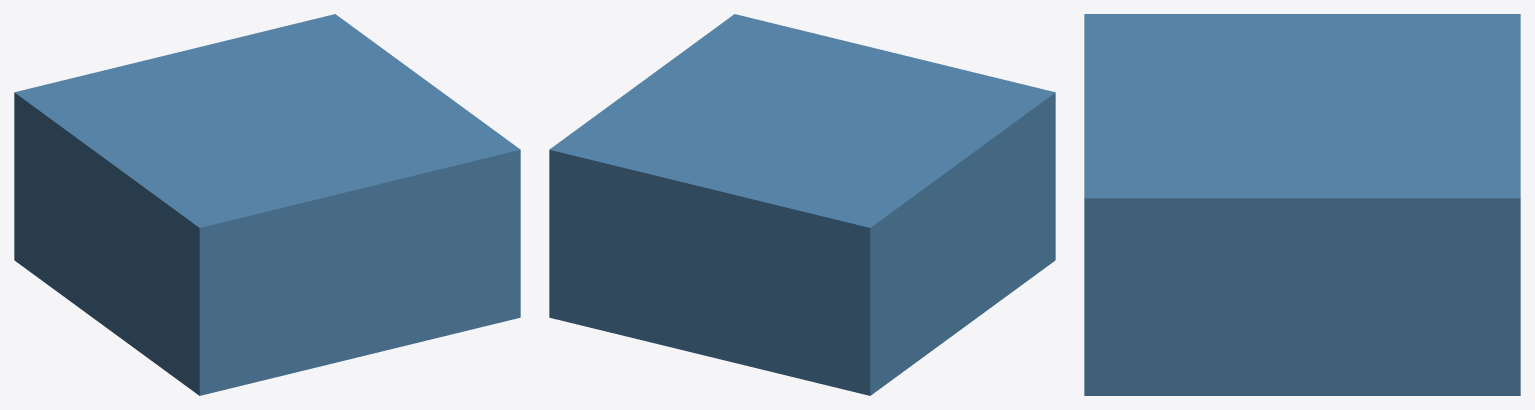
File: Water_Half.glb
The picture shows the model from 3 angles, left to right: view 1: azimuth 30°, elevation 25°; view 2: azimuth 150°, elevation 25°; view 3: azimuth 270°, elevation 25°; orthographic projection. The views are drawn at different scales.
Visible parts, largest first — view 1: Water_Half_body; view 2: Water_Half_body; view 3: Water_Half_body.
Boxes of the visible parts, <box> form: Water_Half_body: <box>14,14,520,395</box>; Water_Half_body: <box>549,14,1055,395</box>; Water_Half_body: <box>1084,14,1520,395</box>.
Bounding box in the file's own units: 1 × 0.5 × 1.
